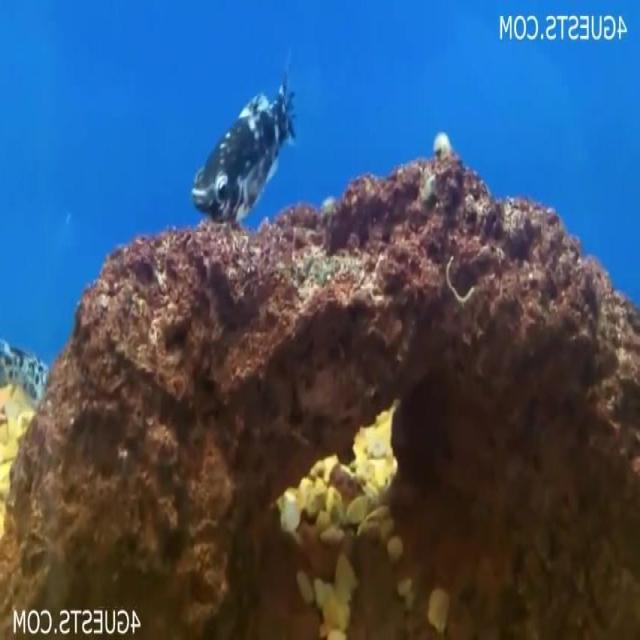PlatyFish: (183, 31, 314, 238)
